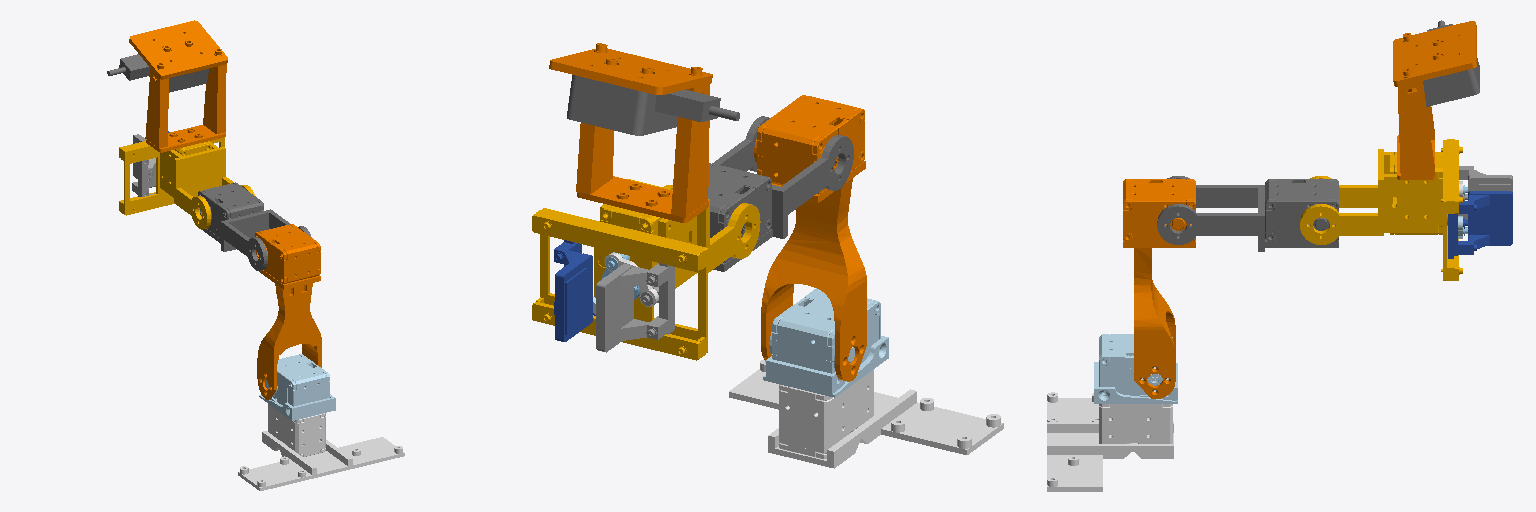
URDF robot description (low_cost_xl430_pg3_compact_d405):
<?xml version="1.0" ?>
<!-- Generated using onshape-to-robot -->
<!-- Onshape https://cad.onshape.com/documents/7b85d8922959cbe564b6e0cb/v/e21cffef1877c8f91d2b03f8/e/848ae15cd82797bd99cdc330 -->
<robot name="low_cost_xl430_pg3_compact_d405">
  <!-- Link base_link -->
  <link name="base_link">
    <inertial>
      <origin xyz="0 0 0" rpy="0 0 0"/>
      <mass value="0"/>
      <inertia ixx="0" ixy="0" ixz="0" iyy="0" iyz="0" izz="0"/>
    </inertial>
    <!-- Part base_link -->
    <visual>
      <origin xyz="0 0 0" rpy="0 -0 0"/>
      <geometry>
        <mesh filename="package://assets/base_link.stl"/>
      </geometry>
      <material name="base_link_material">
        <color rgba="0.917647 0.917647 0.917647 1"/>
      </material>
    </visual>
    <collision>
      <origin xyz="0 0 0" rpy="0 -0 0"/>
      <geometry>
        <mesh filename="package://assets/base_link.stl"/>
      </geometry>
    </collision>
  </link>
  <!-- Link shoulder_yaw -->
  <link name="shoulder_yaw">
    <inertial>
      <origin xyz="0 0 0" rpy="0 0 0"/>
      <mass value="0"/>
      <inertia ixx="0" ixy="0" ixz="0" iyy="0" iyz="0" izz="0"/>
    </inertial>
    <!-- Part shoulder_yaw -->
    <visual>
      <origin xyz="0 0 0.02" rpy="-3.14159 -0 0"/>
      <geometry>
        <mesh filename="package://assets/shoulder_yaw.stl"/>
      </geometry>
      <material name="shoulder_yaw_material">
        <color rgba="0.768627 0.886275 0.952941 1"/>
      </material>
    </visual>
    <collision>
      <origin xyz="0 0 0.02" rpy="-3.14159 -0 0"/>
      <geometry>
        <mesh filename="package://assets/shoulder_yaw.stl"/>
      </geometry>
    </collision>
  </link>
  <!-- Link upper_arm -->
  <link name="upper_arm">
    <inertial>
      <origin xyz="0 0 0" rpy="0 0 0"/>
      <mass value="0"/>
      <inertia ixx="0" ixy="0" ixz="0" iyy="0" iyz="0" izz="0"/>
    </inertial>
    <!-- Part upper_arm -->
    <visual>
      <origin xyz="-0.0563 -0 0.0002" rpy="-3.14159 -1.5708 0"/>
      <geometry>
        <mesh filename="package://assets/upper_arm.stl"/>
      </geometry>
      <material name="upper_arm_material">
        <color rgba="0.972549 0.529412 0.00392157 1"/>
      </material>
    </visual>
    <collision>
      <origin xyz="-0.0563 -0 0.0002" rpy="-3.14159 -1.5708 0"/>
      <geometry>
        <mesh filename="package://assets/upper_arm.stl"/>
      </geometry>
    </collision>
  </link>
  <!-- Link forearm -->
  <link name="forearm">
    <inertial>
      <origin xyz="0 0 0" rpy="0 0 0"/>
      <mass value="0"/>
      <inertia ixx="0" ixy="0" ixz="0" iyy="0" iyz="0" izz="0"/>
    </inertial>
    <!-- Part forearm -->
    <visual>
      <origin xyz="0.1646 0.0148 -0.0002" rpy="3.14159 1.5708 0"/>
      <geometry>
        <mesh filename="package://assets/forearm.stl"/>
      </geometry>
      <material name="forearm_material">
        <color rgba="0.498039 0.498039 0.498039 1"/>
      </material>
    </visual>
    <collision>
      <origin xyz="0.1646 0.0148 -0.0002" rpy="3.14159 1.5708 0"/>
      <geometry>
        <mesh filename="package://assets/forearm.stl"/>
      </geometry>
    </collision>
  </link>
  <!-- Link wrist -->
  <link name="wrist">
    <inertial>
      <origin xyz="0 0 0" rpy="0 0 0"/>
      <mass value="0"/>
      <inertia ixx="0" ixy="0" ixz="0" iyy="0" iyz="0" izz="0"/>
    </inertial>
    <!-- Part wrist -->
    <visual>
      <origin xyz="0.1646 0.1049 -0.0002" rpy="-3.14159 1.5708 0"/>
      <geometry>
        <mesh filename="package://assets/wrist.stl"/>
      </geometry>
      <material name="wrist_material">
        <color rgba="0.980392 0.713725 0.00392157 1"/>
      </material>
    </visual>
    <collision>
      <origin xyz="0.1646 0.1049 -0.0002" rpy="-3.14159 1.5708 0"/>
      <geometry>
        <mesh filename="package://assets/wrist.stl"/>
      </geometry>
    </collision>
  </link>
  <!-- Link gripper_crank -->
  <link name="gripper_crank">
    <inertial>
      <origin xyz="0 0 0" rpy="0 0 0"/>
      <mass value="0"/>
      <inertia ixx="0" ixy="0" ixz="0" iyy="0" iyz="0" izz="0"/>
    </inertial>
    <!-- Part gripper_crank -->
    <visual>
      <origin xyz="0.0002 -0.1646 0.1649" rpy="-1.5708 -0 0"/>
      <geometry>
        <mesh filename="package://assets/gripper_crank.stl"/>
      </geometry>
      <material name="gripper_crank_material">
        <color rgba="0.615686 0.811765 0.929412 1"/>
      </material>
    </visual>
    <collision>
      <origin xyz="0.0002 -0.1646 0.1649" rpy="-1.5708 -0 0"/>
      <geometry>
        <mesh filename="package://assets/gripper_crank.stl"/>
      </geometry>
    </collision>
  </link>
  <!-- Link coupler_l -->
  <link name="coupler_l">
    <inertial>
      <origin xyz="0 0 0" rpy="0 0 0"/>
      <mass value="0"/>
      <inertia ixx="0" ixy="0" ixz="0" iyy="0" iyz="0" izz="0"/>
    </inertial>
    <!-- Part coupler_l -->
    <visual>
      <origin xyz="0.0002 -0.1786 0.1649" rpy="-1.5708 -0 0"/>
      <geometry>
        <mesh filename="package://assets/coupler_l.stl"/>
      </geometry>
      <material name="coupler_l_material">
        <color rgba="0.917647 0.917647 0.917647 1"/>
      </material>
    </visual>
    <collision>
      <origin xyz="0.0002 -0.1786 0.1649" rpy="-1.5708 -0 0"/>
      <geometry>
        <mesh filename="package://assets/coupler_l.stl"/>
      </geometry>
    </collision>
  </link>
  <!-- Frame closing_left_1 (dummy link + fixed joint) -->
  <link name="closing_left_1">
    <origin xyz="0 0 0" rpy="0 -0 0"/>
    <inertial>
      <origin xyz="0 0 0" rpy="0 0 0"/>
      <mass value="0"/>
      <inertia ixx="0" ixy="0" ixz="0" iyy="0" iyz="0" izz="0"/>
    </inertial>
  </link>
  <joint name="closing_left_1_frame" type="fixed">
    <origin xyz="-0.0194936 -0.014 -0.028" rpy="3.14159 -0 0"/>
    <parent link="coupler_l"/>
    <child link="closing_left_1"/>
    <axis xyz="0 0 0"/>
  </joint>
  <!-- Joint from gripper_crank to coupler_l -->
  <joint name="coupler_left" type="revolute">
    <origin xyz="-0 0.014 0" rpy="0 -0 0"/>
    <parent link="gripper_crank"/>
    <child link="coupler_l"/>
    <axis xyz="0 0 1"/>
    <limit effort="0" velocity="0" lower="-3.141592653589793" upper="3.141592653589793"/>
  </joint>
  <!-- Link coupler_r -->
  <link name="coupler_r">
    <inertial>
      <origin xyz="0 0 0" rpy="0 0 0"/>
      <mass value="0"/>
      <inertia ixx="0" ixy="0" ixz="0" iyy="0" iyz="0" izz="0"/>
    </inertial>
    <!-- Part coupler_r -->
    <visual>
      <origin xyz="0.0002 -0.1506 0.1649" rpy="-1.5708 -0 -0"/>
      <geometry>
        <mesh filename="package://assets/coupler_r.stl"/>
      </geometry>
      <material name="coupler_r_material">
        <color rgba="0.768627 0.886275 0.952941 1"/>
      </material>
    </visual>
    <collision>
      <origin xyz="0.0002 -0.1506 0.1649" rpy="-1.5708 -0 -0"/>
      <geometry>
        <mesh filename="package://assets/coupler_r.stl"/>
      </geometry>
    </collision>
  </link>
  <!-- Frame closing_right_1 (dummy link + fixed joint) -->
  <link name="closing_right_1">
    <origin xyz="0 0 0" rpy="0 -0 0"/>
    <inertial>
      <origin xyz="0 0 0" rpy="0 0 0"/>
      <mass value="0"/>
      <inertia ixx="0" ixy="0" ixz="0" iyy="0" iyz="0" izz="0"/>
    </inertial>
  </link>
  <joint name="closing_right_1_frame" type="fixed">
    <origin xyz="0.0194936 0.014 -0.028" rpy="-3.14159 -0 -0"/>
    <parent link="coupler_r"/>
    <child link="closing_right_1"/>
    <axis xyz="0 0 0"/>
  </joint>
  <!-- Joint from gripper_crank to coupler_r -->
  <joint name="coupler_right" type="revolute">
    <origin xyz="-0 -0.014 0" rpy="0 -0 0"/>
    <parent link="gripper_crank"/>
    <child link="coupler_r"/>
    <axis xyz="0 0 1"/>
    <limit effort="0" velocity="0" lower="-3.141592653589793" upper="3.141592653589793"/>
  </joint>
  <!-- Joint from wrist to gripper_crank -->
  <joint name="gripper_drive" type="revolute">
    <origin xyz="-0 -0.06 -0" rpy="-1.5708 1.5708 0"/>
    <parent link="wrist"/>
    <child link="gripper_crank"/>
    <axis xyz="0 0 1"/>
    <limit effort="0" velocity="0" lower="-0.785398" upper="1.13446"/>
  </joint>
  <!-- Link jaw_l -->
  <link name="jaw_l">
    <inertial>
      <origin xyz="0 0 0" rpy="0 0 0"/>
      <mass value="0"/>
      <inertia ixx="0" ixy="0" ixz="0" iyy="0" iyz="0" izz="0"/>
    </inertial>
    <!-- Part jaw_l -->
    <visual>
      <origin xyz="0.1646 0.1649 -0.0002" rpy="3.14159 1.5708 0"/>
      <geometry>
        <mesh filename="package://assets/jaw_l.stl"/>
      </geometry>
      <material name="jaw_l_material">
        <color rgba="0.647059 0.647059 0.647059 1"/>
      </material>
    </visual>
    <collision>
      <origin xyz="0.1646 0.1649 -0.0002" rpy="3.14159 1.5708 0"/>
      <geometry>
        <mesh filename="package://assets/jaw_l.stl"/>
      </geometry>
    </collision>
  </link>
  <!-- Frame closing_left_2 (dummy link + fixed joint) -->
  <link name="closing_left_2">
    <origin xyz="0 0 0" rpy="0 -0 0"/>
    <inertial>
      <origin xyz="0 0 0" rpy="0 0 0"/>
      <mass value="0"/>
      <inertia ixx="0" ixy="0" ixz="0" iyy="0" iyz="0" izz="0"/>
    </inertial>
  </link>
  <joint name="closing_left_2_frame" type="fixed">
    <origin xyz="0 -0.028 0.0194936" rpy="1.5708 1.5708 0"/>
    <parent link="jaw_l"/>
    <child link="closing_left_2"/>
    <axis xyz="0 0 0"/>
  </joint>
  <!-- Joint from wrist to jaw_l -->
  <joint name="jaw_left" type="prismatic">
    <origin xyz="-0 -0.06 -0" rpy="0 -0 -0"/>
    <parent link="wrist"/>
    <child link="jaw_l"/>
    <axis xyz="0 0 1"/>
    <limit effort="0" velocity="0" lower="-0.00752987" upper="0.016454"/>
  </joint>
  <!-- Link jaw_r -->
  <link name="jaw_r">
    <inertial>
      <origin xyz="0 0 0" rpy="0 0 0"/>
      <mass value="0"/>
      <inertia ixx="0" ixy="0" ixz="0" iyy="0" iyz="0" izz="0"/>
    </inertial>
    <!-- Part jaw_r -->
    <visual>
      <origin xyz="0.1646 0.1649 -0.0002" rpy="3.14159 1.5708 0"/>
      <geometry>
        <mesh filename="package://assets/jaw_r.stl"/>
      </geometry>
      <material name="jaw_r_material">
        <color rgba="0.231373 0.380392 0.705882 1"/>
      </material>
    </visual>
    <collision>
      <origin xyz="0.1646 0.1649 -0.0002" rpy="3.14159 1.5708 0"/>
      <geometry>
        <mesh filename="package://assets/jaw_r.stl"/>
      </geometry>
    </collision>
  </link>
  <!-- Frame closing_right_2 (dummy link + fixed joint) -->
  <link name="closing_right_2">
    <origin xyz="0 0 0" rpy="0 -0 0"/>
    <inertial>
      <origin xyz="0 0 0" rpy="0 0 0"/>
      <mass value="0"/>
      <inertia ixx="0" ixy="0" ixz="0" iyy="0" iyz="0" izz="0"/>
    </inertial>
  </link>
  <joint name="closing_right_2_frame" type="fixed">
    <origin xyz="0 -0.028 -0.0194936" rpy="1.5708 1.5708 0"/>
    <parent link="jaw_r"/>
    <child link="closing_right_2"/>
    <axis xyz="0 0 0"/>
  </joint>
  <!-- Joint from wrist to jaw_r -->
  <joint name="jaw_right" type="prismatic">
    <origin xyz="-0 -0.06 -0" rpy="0 -0 -0"/>
    <parent link="wrist"/>
    <child link="jaw_r"/>
    <axis xyz="0 0 1"/>
    <limit effort="0" velocity="0" lower="-0.016454" upper="0.00752987"/>
  </joint>
  <!-- Link camera_mount -->
  <link name="camera_mount">
    <inertial>
      <origin xyz="0 0 0" rpy="0 0 0"/>
      <mass value="0"/>
      <inertia ixx="0" ixy="0" ixz="0" iyy="0" iyz="0" izz="0"/>
    </inertial>
    <!-- Part camera_mount -->
    <visual>
      <origin xyz="0.0002 0.1649 0.19985" rpy="-3.14159 -0 0"/>
      <geometry>
        <mesh filename="package://assets/camera_mount.stl"/>
      </geometry>
      <material name="camera_mount_material">
        <color rgba="0.972549 0.529412 0.00392157 1"/>
      </material>
    </visual>
    <collision>
      <origin xyz="0.0002 0.1649 0.19985" rpy="-3.14159 -0 0"/>
      <geometry>
        <mesh filename="package://assets/camera_mount.stl"/>
      </geometry>
    </collision>
  </link>
  <!-- Link camera_body -->
  <link name="camera_body">
    <inertial>
      <origin xyz="0 0 0" rpy="0 0 0"/>
      <mass value="0"/>
      <inertia ixx="0" ixy="0" ixz="0" iyy="0" iyz="0" izz="0"/>
    </inertial>
    <!-- Part camera_body -->
    <visual>
      <origin xyz="0.0002 0.185 0.25" rpy="-3.14159 -0 0"/>
      <geometry>
        <mesh filename="package://assets/camera_body.stl"/>
      </geometry>
      <material name="camera_body_material">
        <color rgba="0.498039 0.498039 0.498039 1"/>
      </material>
    </visual>
    <collision>
      <origin xyz="0.0002 0.185 0.25" rpy="-3.14159 -0 0"/>
      <geometry>
        <mesh filename="package://assets/camera_body.stl"/>
      </geometry>
    </collision>
  </link>
  <!-- Joint from camera_mount to camera_body -->
  <joint name="camera_body_fixed" type="fixed">
    <origin xyz="0 -0.0201 -0.05015" rpy="0 -0 0"/>
    <parent link="camera_mount"/>
    <child link="camera_body"/>
    <axis xyz="0 0 1"/>
    <limit effort="0" velocity="0"/>
  </joint>
  <!-- Joint from wrist to camera_mount -->
  <joint name="camera_mount_fixed" type="fixed">
    <origin xyz="-0.03525 -0.06 -0" rpy="0 1.5708 0"/>
    <parent link="wrist"/>
    <child link="camera_mount"/>
    <axis xyz="0 0 1"/>
    <limit effort="0" velocity="0"/>
  </joint>
  <!-- Joint from forearm to wrist -->
  <joint name="joint4_wrist" type="revolute">
    <origin xyz="0 -0.0901 0" rpy="0 -0 0"/>
    <parent link="forearm"/>
    <child link="wrist"/>
    <axis xyz="0 0 1"/>
    <limit effort="0" velocity="0" lower="-1.85005" upper="2.40855"/>
  </joint>
  <!-- Joint from upper_arm to forearm -->
  <joint name="joint3_elbow" type="revolute">
    <origin xyz="0.1083 -0.0148 0" rpy="3.14159 0 -3.14159"/>
    <parent link="upper_arm"/>
    <child link="forearm"/>
    <axis xyz="0 0 1"/>
    <limit effort="0" velocity="0" lower="-3.141592653589793" upper="3.141592653589793"/>
  </joint>
  <!-- Joint from shoulder_yaw to upper_arm -->
  <joint name="joint2_shoulder" type="revolute">
    <origin xyz="-0.0002 -0 -0.0363" rpy="0 1.5708 0"/>
    <parent link="shoulder_yaw"/>
    <child link="upper_arm"/>
    <axis xyz="0 0 1"/>
    <limit effort="0" velocity="0" lower="-3.141592653589793" upper="3.141592653589793"/>
  </joint>
  <!-- Joint from base_link to shoulder_yaw -->
  <joint name="joint1_yaw" type="revolute">
    <origin xyz="0 0 0.02" rpy="3.14159 -0 0"/>
    <parent link="base_link"/>
    <child link="shoulder_yaw"/>
    <axis xyz="0 0 1"/>
    <limit effort="0" velocity="0" lower="-3.141592653589793" upper="3.141592653589793"/>
  </joint>
</robot>

--- Facts derived from the render (not from the file) ---
Views: 3 orthographic renders of the robot side by side, from view 1: azimuth 30°, elevation 25°; view 2: azimuth 150°, elevation 25°; view 3: azimuth 270°, elevation 25°.
Robot: low_cost_xl430_pg3_compact_d405 — 16 links, 15 joints (7 revolute, 2 prismatic, 6 fixed); root link base_link; default pose: all joints at 0.
Links seen in each view (by area): view 1: camera_mount, upper_arm, base_link, wrist, forearm, shoulder_yaw, camera_body, jaw_l; view 2: upper_arm, wrist, base_link, camera_mount, forearm, shoulder_yaw, camera_body, jaw_l, jaw_r; view 3: wrist, base_link, upper_arm, forearm, camera_mount, shoulder_yaw, jaw_r, camera_body, jaw_l.
Boxes of the visible links, box(x1,y1,x2,y2) form: camera_mount: box(129, 20, 227, 152); upper_arm: box(255, 224, 321, 399); base_link: box(238, 404, 404, 490); wrist: box(119, 137, 254, 229); forearm: box(198, 182, 310, 270); shoulder_yaw: box(259, 354, 335, 420); camera_body: box(107, 54, 208, 92); jaw_l: box(132, 134, 155, 196); upper_arm: box(754, 95, 866, 381); wrist: box(532, 179, 760, 360); base_link: box(729, 359, 1003, 468); camera_mount: box(549, 43, 712, 222); forearm: box(708, 116, 853, 271); shoulder_yaw: box(763, 288, 888, 397); camera_body: box(567, 75, 739, 135); jaw_l: box(596, 263, 674, 352); jaw_r: box(554, 240, 595, 341); wrist: box(1300, 139, 1462, 280); base_link: box(1047, 392, 1173, 491); upper_arm: box(1123, 179, 1195, 398); forearm: box(1157, 176, 1338, 251); camera_mount: box(1393, 21, 1476, 179); shoulder_yaw: box(1094, 334, 1177, 403); jaw_r: box(1448, 191, 1512, 258); camera_body: box(1423, 20, 1479, 106); jaw_l: box(1458, 166, 1512, 219).
Size in the robot's own frame: 0.133 by 0.2936 by 0.2826 metres.
12 mesh visuals loaded from 12 distinct referenced files (12 binary STL).
